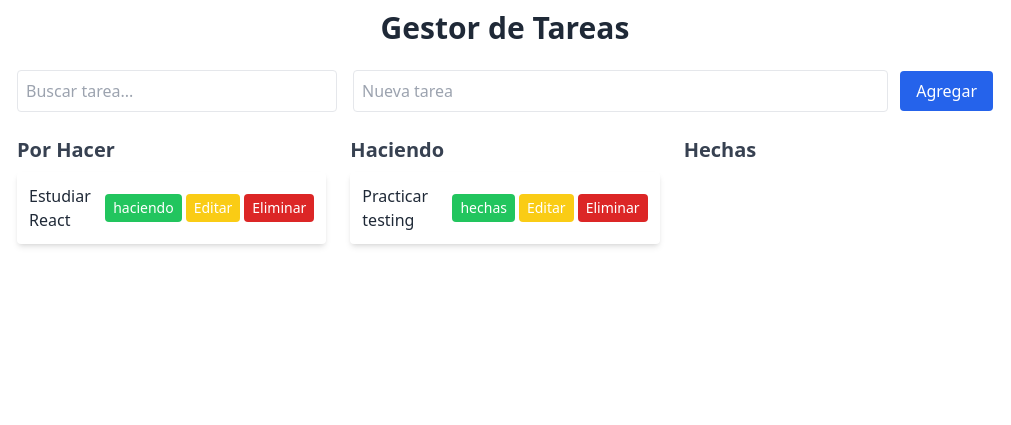
Test: Integración - Creación de Tareas › integración con TaskForm permite agregar varias tareas consecutivas
The width and height of the screenshot is (1011, 425).
// Agregar primera tarea
Type "Primera tarea" into the field with placeholder "Nueva tarea" at (621, 91), box [353,70,888,112]
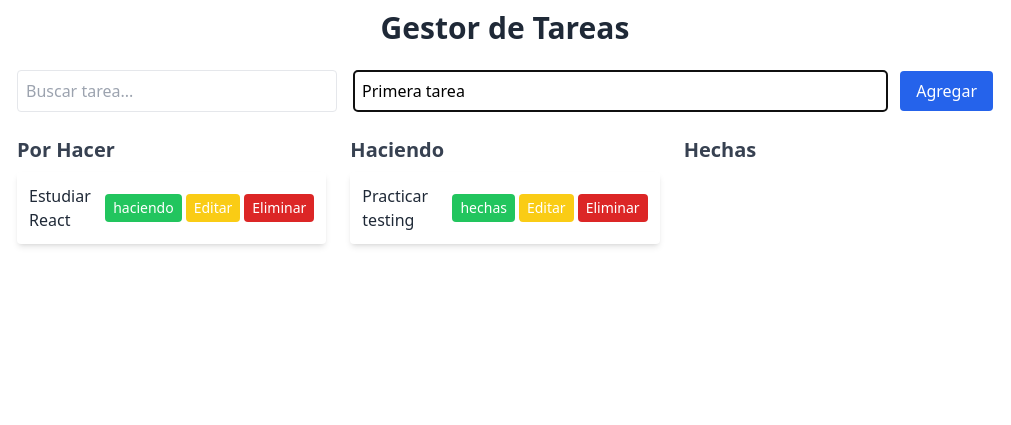
Click the button "Agregar" at (947, 91), box [900,71,993,111]
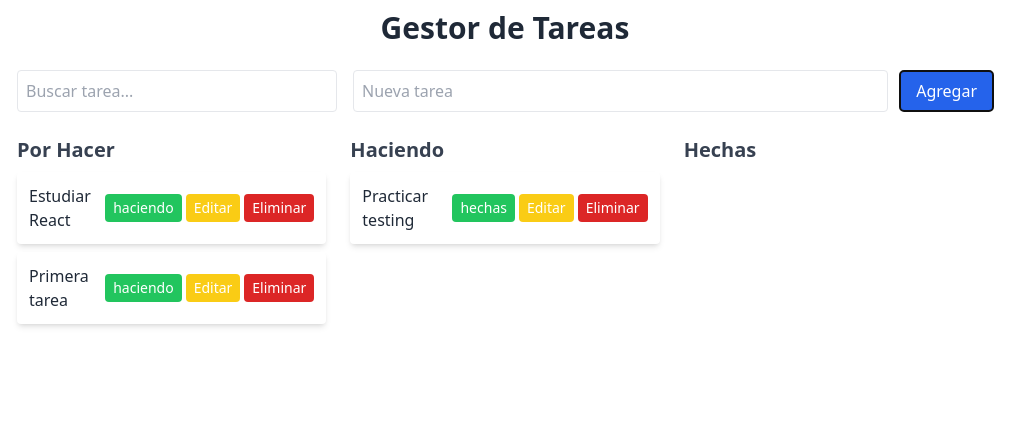
// Agregar segunda tarea
Type "Segunda tarea" into the field with placeholder "Nueva tarea" at (621, 91), box [353,70,888,112]
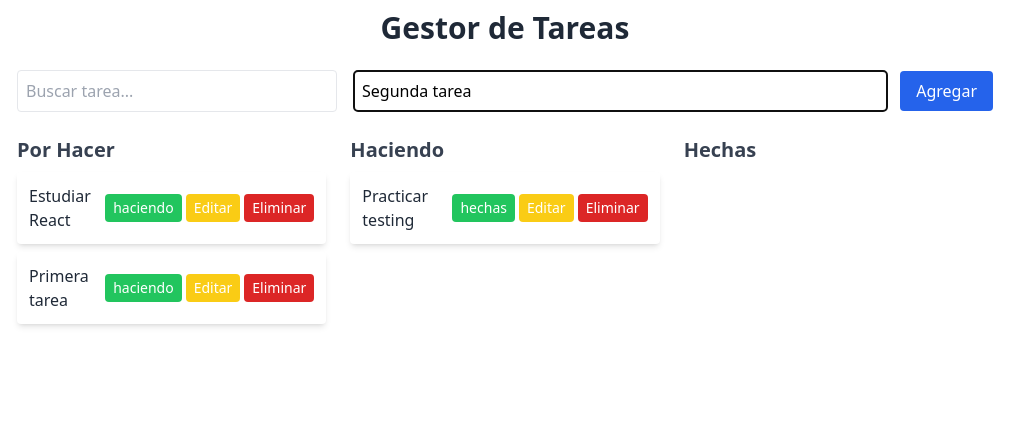
Click the button "Agregar" at (947, 91), box [900,71,993,111]
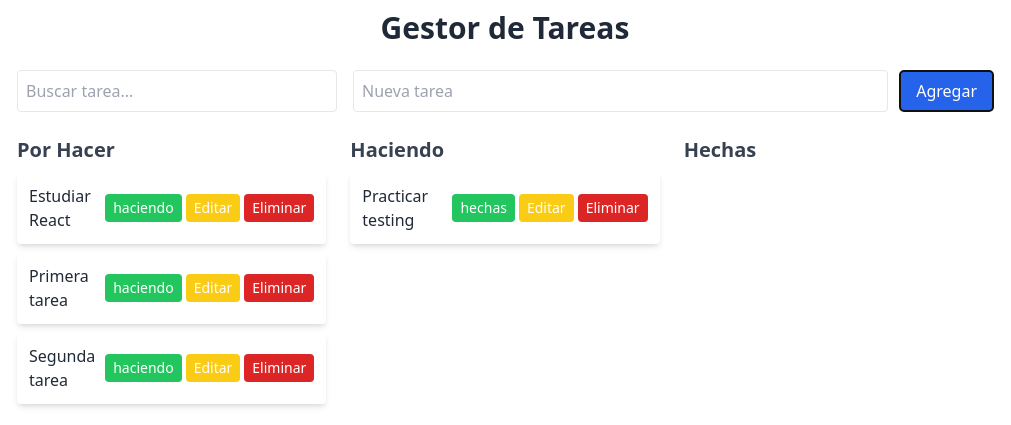
Now the text "Primera tarea" is shown, box [29,264,97,312]
Now the text "Segunda tarea" is shown, box [29,344,97,392]
